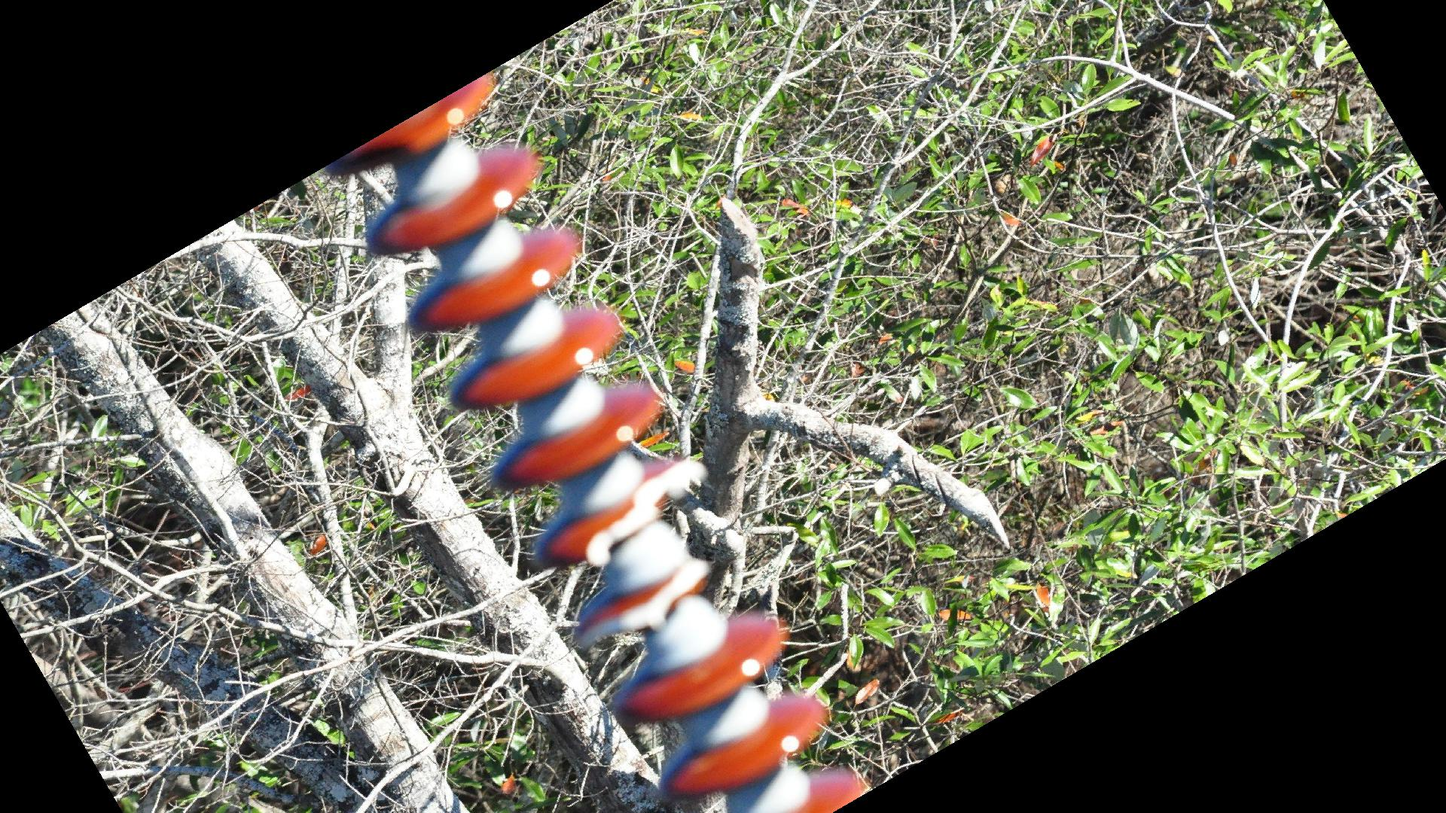insulator: (317, 66, 874, 813)
insulator_breakage: (579, 454, 712, 572)
